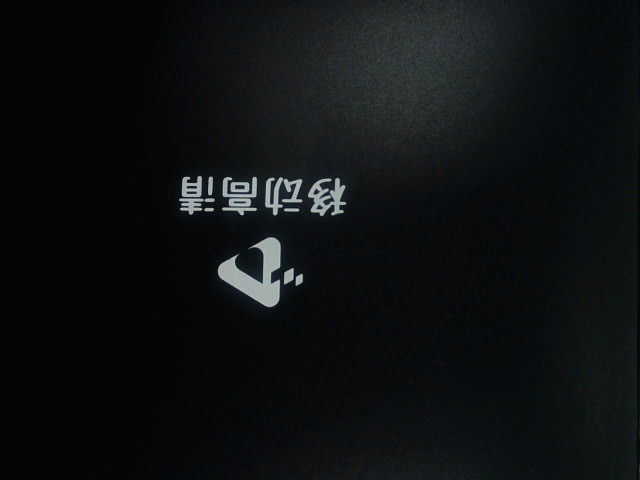AO_MobileHD: (154, 156, 358, 318)
